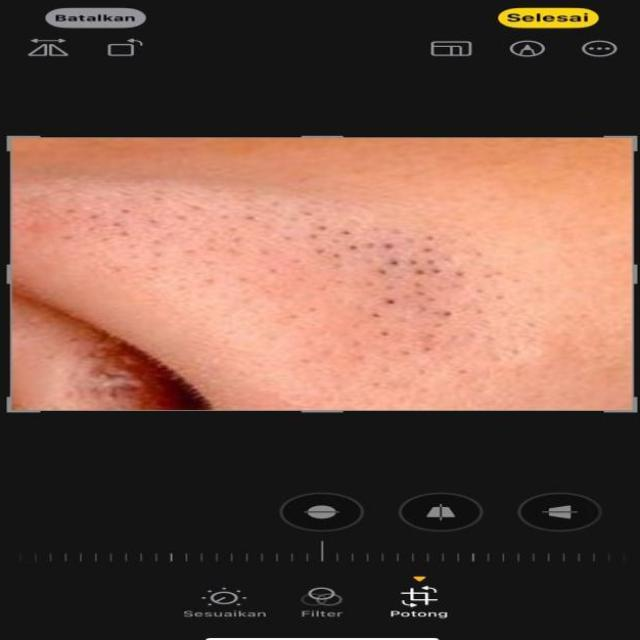blackhead: (185, 168, 494, 394)
